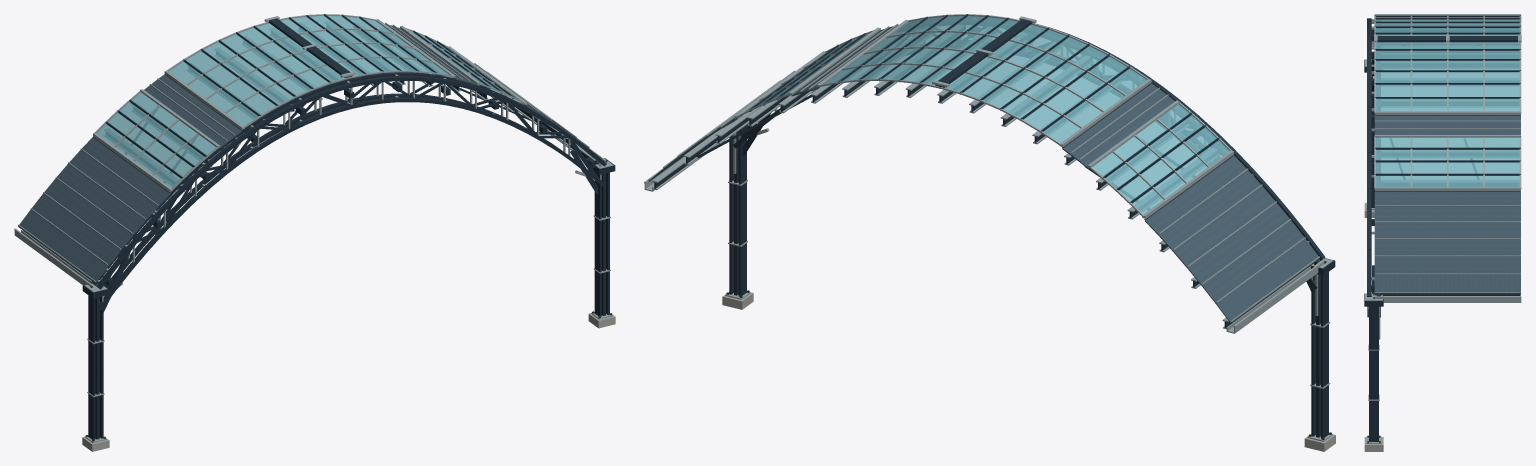
The model's file is roof_bay.glb.
3 views of the same model, side by side, from view 1: azimuth 30°, elevation 25°; view 2: azimuth 150°, elevation 25°; view 3: azimuth 270°, elevation 25° (orthographic). The views are drawn at different scales.
Parts seen in each view (by area): view 1: VIS_crown_glass_Batched, VIS_roof_cladding_Batched, VIS_rib_painted_steel_Batched, VIS_crown_galvanized_Batched, VIS_column_painted_steel_Batched, VIS_crown_painted_steel_Batched, VIS_roof_galvanized_Batched, VIS_rib_galvanized_Batched, VIS_edge_galvanized_Batched; view 2: VIS_crown_glass_Batched, VIS_roof_cladding_Batched, VIS_crown_galvanized_Batched, VIS_crown_painted_steel_Batched, VIS_column_painted_steel_Batched, VIS_roof_galvanized_Batched, VIS_purlin_galvanized_Batched, VIS_purlin_painted_steel_Batched, VIS_edge_galvanized_Batched, VIS_rib_painted_steel_Batched, VIS_column_concrete_Batched; view 3: VIS_crown_glass_Batched, VIS_roof_cladding_Batched, VIS_crown_painted_steel_Batched, VIS_crown_galvanized_Batched, VIS_roof_galvanized_Batched, VIS_column_painted_steel_Batched, VIS_rib_painted_steel_Batched, VIS_edge_galvanized_Batched, VIS_roof_seal_Batched, VIS_rib_galvanized_Batched, VIS_purlin_painted_steel_Batched, VIS_column_concrete_Batched.
Boxes of the visible parts, left/top/right/bottom form: VIS_crown_glass_Batched: left=96, top=15, right=516, bottom=188; VIS_roof_cladding_Batched: left=19, top=24, right=601, bottom=283; VIS_rib_painted_steel_Batched: left=91, top=72, right=606, bottom=310; VIS_crown_galvanized_Batched: left=93, top=14, right=527, bottom=191; VIS_column_painted_steel_Batched: left=82, top=149, right=615, bottom=439; VIS_crown_painted_steel_Batched: left=106, top=14, right=525, bottom=191; VIS_roof_galvanized_Batched: left=18, top=22, right=601, bottom=281; VIS_rib_galvanized_Batched: left=84, top=74, right=613, bottom=302; VIS_edge_galvanized_Batched: left=14, top=148, right=605, bottom=287; VIS_crown_glass_Batched: left=745, top=16, right=1229, bottom=214; VIS_roof_cladding_Batched: left=649, top=25, right=1318, bottom=323; VIS_crown_galvanized_Batched: left=734, top=14, right=1233, bottom=217; VIS_crown_painted_steel_Batched: left=736, top=14, right=1219, bottom=218; VIS_column_painted_steel_Batched: left=729, top=113, right=1335, bottom=438; VIS_roof_galvanized_Batched: left=648, top=23, right=1319, bottom=322; VIS_purlin_galvanized_Batched: left=652, top=81, right=1228, bottom=329; VIS_purlin_painted_steel_Batched: left=654, top=81, right=1308, bottom=327; VIS_edge_galvanized_Batched: left=644, top=133, right=1324, bottom=333; VIS_rib_painted_steel_Batched: left=733, top=23, right=1325, bottom=289; VIS_column_concrete_Batched: left=722, top=292, right=1335, bottom=451; VIS_crown_glass_Batched: left=1376, top=17, right=1519, bottom=186; VIS_roof_cladding_Batched: left=1374, top=115, right=1520, bottom=294; VIS_crown_painted_steel_Batched: left=1375, top=15, right=1520, bottom=175; VIS_crown_galvanized_Batched: left=1374, top=14, right=1521, bottom=189; VIS_roof_galvanized_Batched: left=1375, top=114, right=1520, bottom=292; VIS_column_painted_steel_Batched: left=1364, top=59, right=1383, bottom=441; VIS_rib_painted_steel_Batched: left=1367, top=18, right=1380, bottom=317; VIS_edge_galvanized_Batched: left=1374, top=296, right=1521, bottom=339; VIS_roof_seal_Batched: left=1375, top=115, right=1520, bottom=293; VIS_rib_galvanized_Batched: left=1365, top=19, right=1382, bottom=309; VIS_purlin_painted_steel_Batched: left=1375, top=294, right=1520, bottom=295; VIS_column_concrete_Batched: left=1364, top=203, right=1383, bottom=451.
Size of the model in its own units: 31.02 by 17.54 by 8.52.
6 materials, 6 textured.
